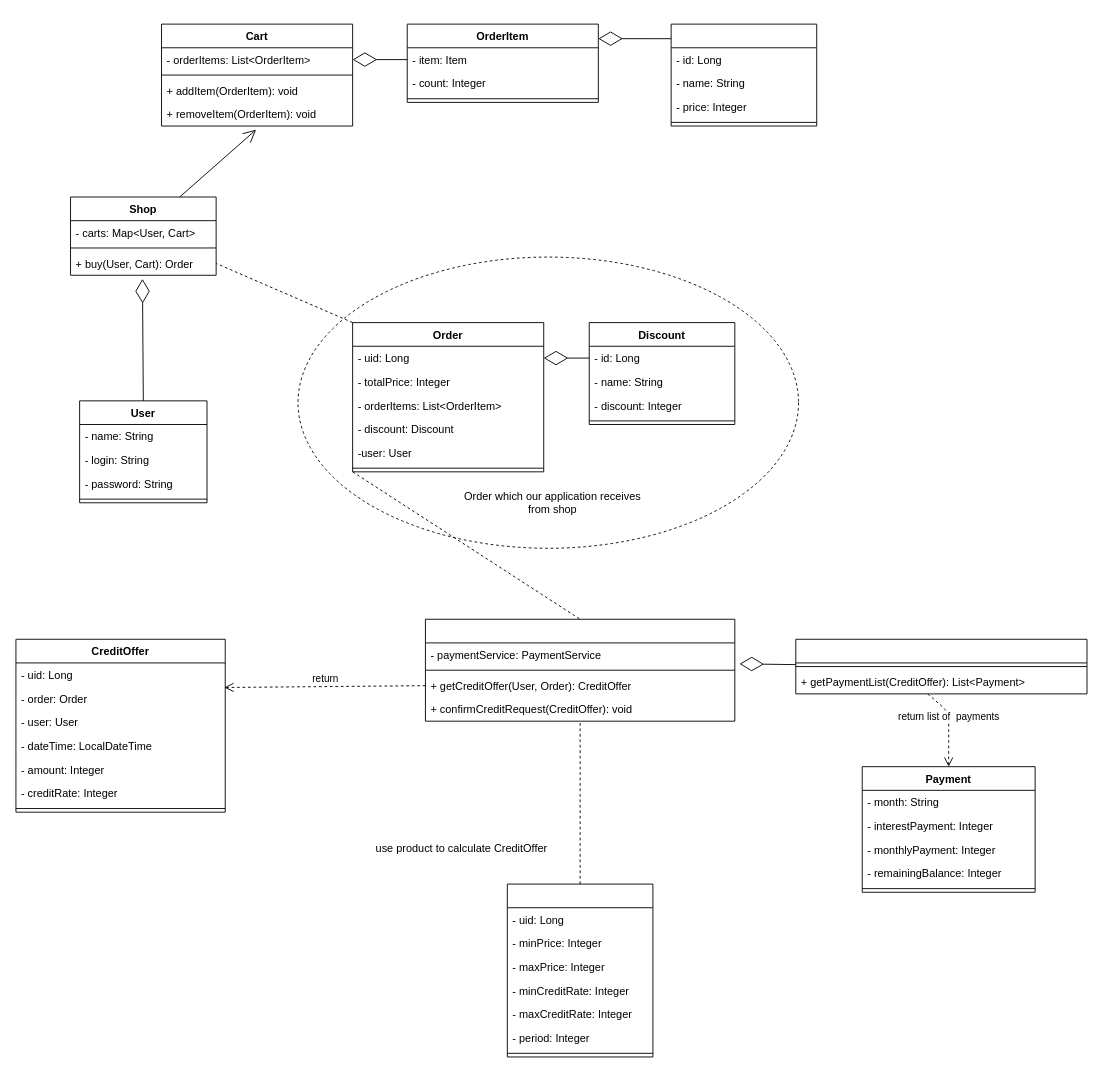
This 1103x1074 diagram has some shape labels left out. Here are the shapes that lost their labels. From the top down, the box of each, then its label:
(670, 23, 817, 126): Item
(425, 618, 735, 721): CreditService
(795, 638, 1087, 694): PaymentService
(506, 883, 653, 1057): Product
